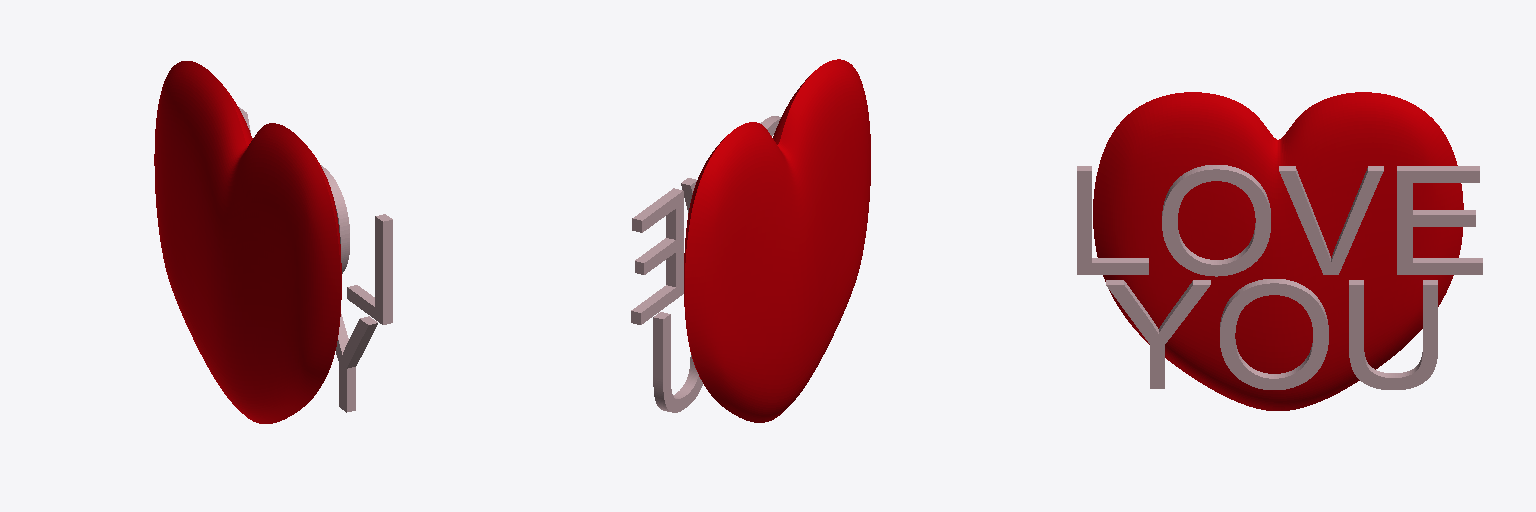
The model's file is heart.obj.
3 renders of one model, left to right at view 1: azimuth 30°, elevation 25°; view 2: azimuth 150°, elevation 25°; view 3: azimuth 270°, elevation 25°, orthographic.
Visible parts, largest first — view 1: Cube, Text_love, Text.001_love.002; view 2: Cube, Text_love, Text.001_love.002; view 3: Cube, Text_love, Text.001_love.002.
Part boxes in pixels (x1,y1,x2,y2): Cube: (154,61,341,423); Text_love: (239,107,392,324); Text.001_love.002: (336,314,377,412); Cube: (684,59,870,422); Text_love: (631,116,780,324); Text.001_love.002: (653,312,702,412); Cube: (1093,92,1463,410); Text_love: (1077,165,1482,276); Text.001_love.002: (1106,279,1437,389).
Size of the model in its own units: 0.5059 by 2.17 by 2.5.